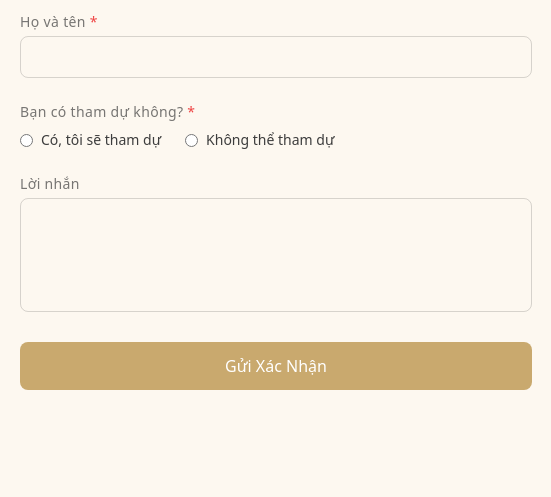
RSVPForm › submits valid form and shows success message
Type "Nguyễn Văn A" into the field labelled "Họ và tên *" at (276, 57), box x1=20 y1=36 x2=532 y2=78
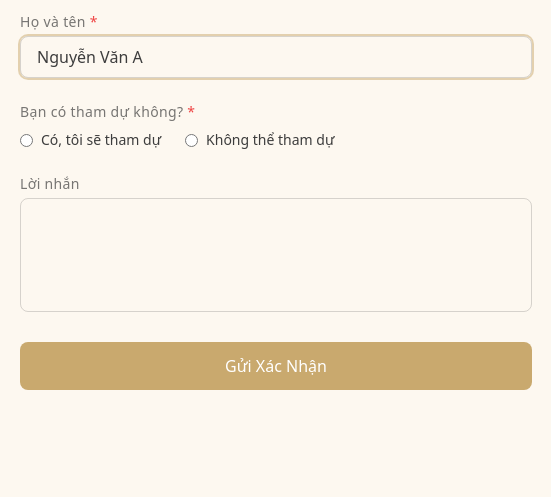
Click the radio button labelled "Có, tôi sẽ tham dự" at (26, 140), box x1=20 y1=134 x2=33 y2=146
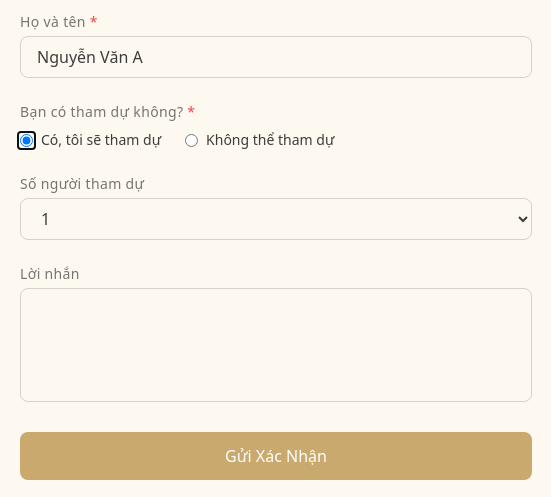
Click the button "Gửi Xác Nhận" at (276, 456), box x1=20 y1=432 x2=532 y2=480
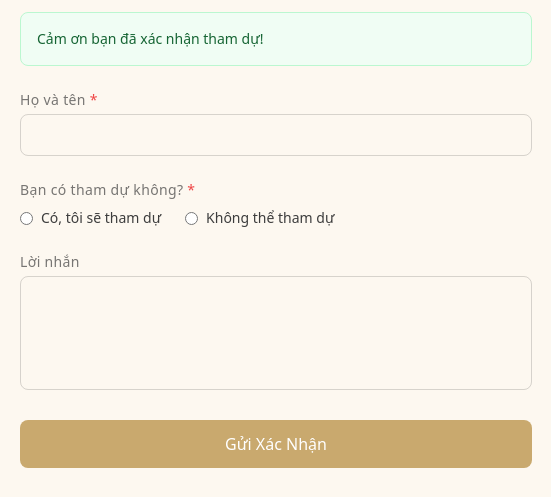
Now the text "Cảm ơn bạn đã xác nhận tham dự!" is shown, box x1=20 y1=12 x2=532 y2=66
